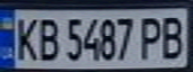4: (81, 15, 100, 62)
5: (60, 15, 84, 62)
7: (115, 15, 139, 61)
8: (97, 15, 118, 61)
B: (157, 12, 190, 61), (33, 15, 60, 62)
K: (9, 14, 42, 62)
P: (136, 12, 166, 60)
